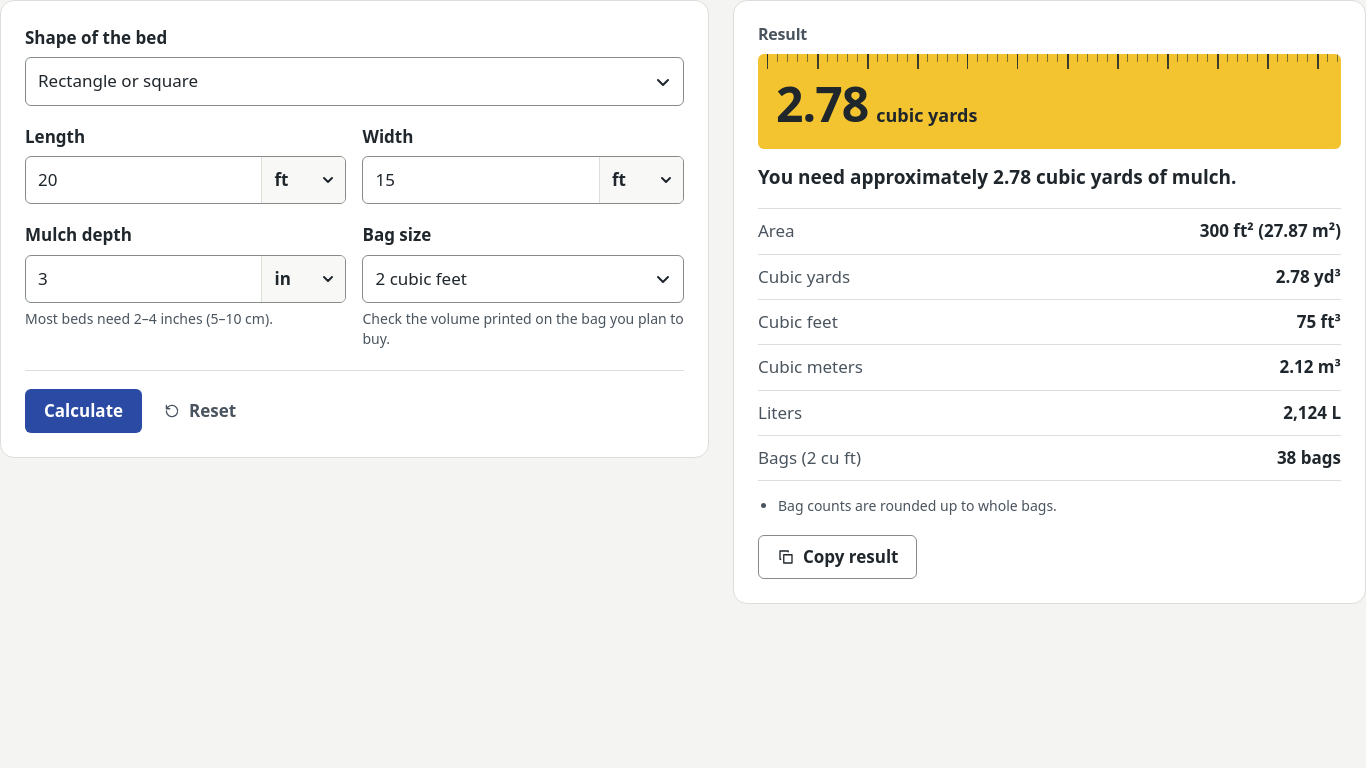
it: CalculatorForm › resets to the defaults
Replace the text in the field labelled "Length" with "99" at (144, 180), box top-left (26, 157), bottom-right (262, 203)
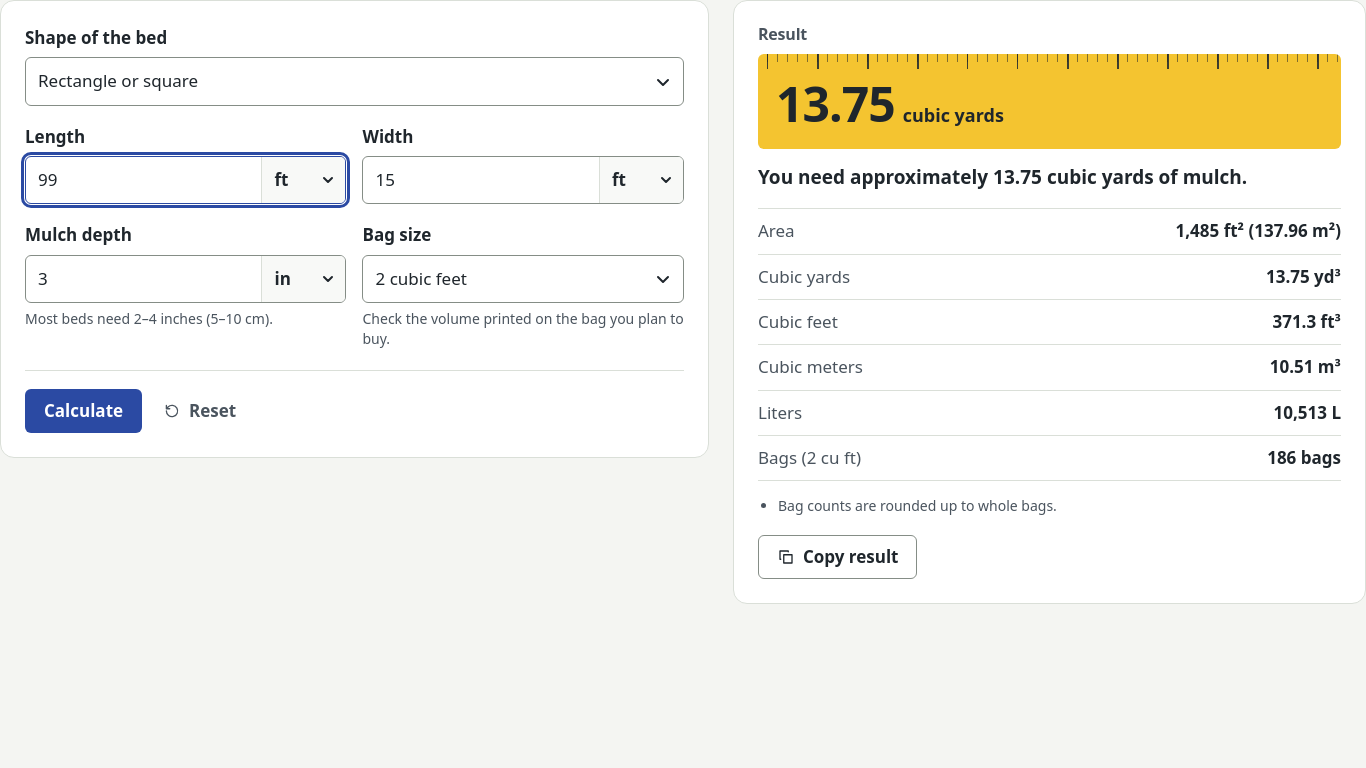
Click the button "Reset" at (200, 411), box top-left (150, 389), bottom-right (249, 433)
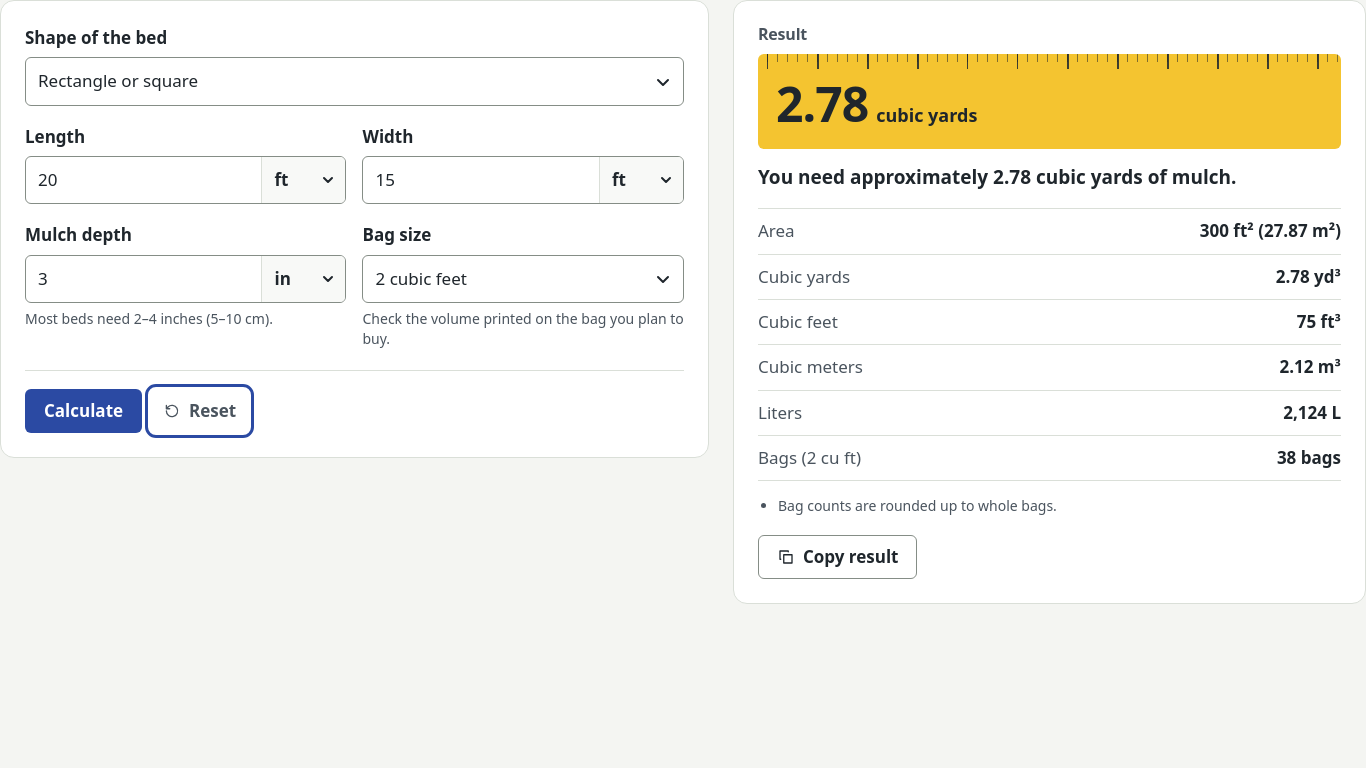
Now the field labelled "Length" holds "20", box top-left (26, 157), bottom-right (262, 203)
